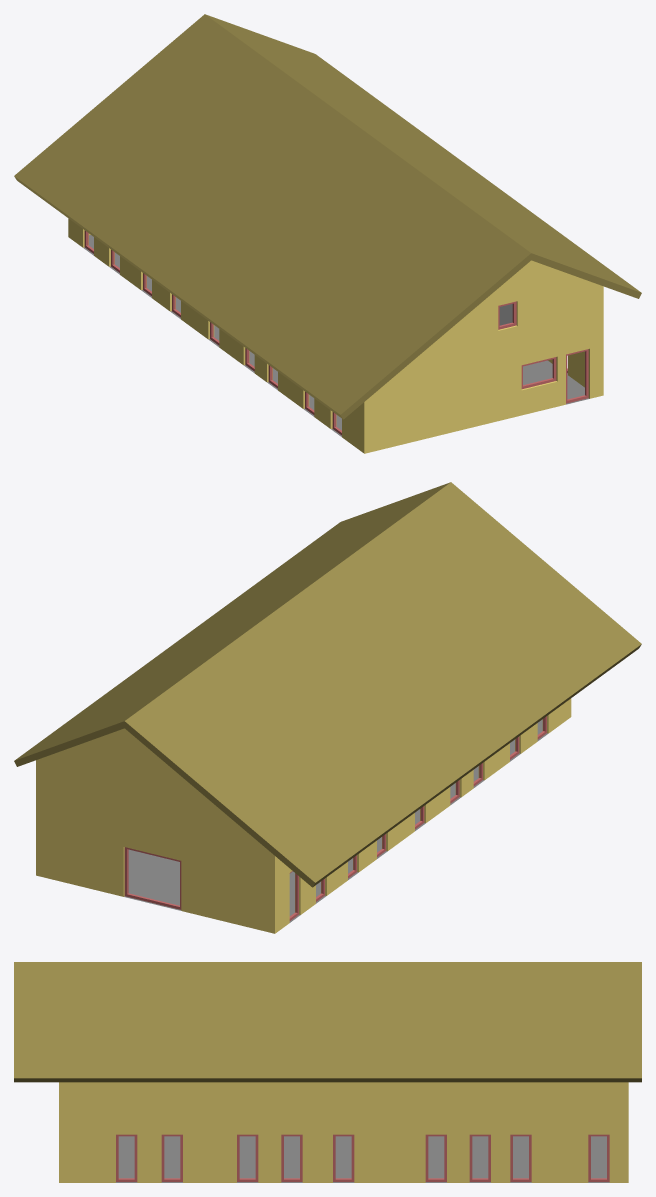
File: result.glb
3 views of the same model, one above another, from view 1: azimuth 30°, elevation 25°; view 2: azimuth 150°, elevation 25°; view 3: azimuth 270°, elevation 25° (orthographic). The views are drawn at different scales.
Parts seen in each view (by area): view 1: 087d2855-c0e6-4c23-a2b5-247921028dc7__undefined (×2), 6e06f0c3-1e23-4692-909f-3db23ffd5041__undefined, cd97a562-6293-4dc4-bdea-bdcfda681d2b__Plane_40; view 2: 087d2855-c0e6-4c23-a2b5-247921028dc7__undefined (×2), 6e06f0c3-1e23-4692-909f-3db23ffd5041__undefined, cd97a562-6293-4dc4-bdea-bdcfda681d2b__Plane_40, 24f96f42-4e2a-415a-992f-21163974043b__Box_9; view 3: 087d2855-c0e6-4c23-a2b5-247921028dc7__undefined, 6e06f0c3-1e23-4692-909f-3db23ffd5041__undefined, cd97a562-6293-4dc4-bdea-bdcfda681d2b__Plane_40, 6b524f5e-f489-45f1-9256-d252b61d2e4e__Box_66, 2b5b14c9-a76d-4bb0-92a2-522f8a9ff442__Box_69, 186065ec-5a67-4781-8c16-fae400372215__Box_72, 42db014e-2615-4056-be4f-232c39293022__Box_78, 5f7d8b55-5ece-4236-b92f-3c452a4b7040__Box_81, ba386b0a-9631-4503-9056-508e7c72ef08__Box_84, 78893185-6ddb-4c17-b5d4-102cb24abc06__Box_75, 0eec4313-0c77-4459-963c-fb25ed517e7d__Box_87, ea27ed9d-5844-4e9f-8cc6-671d0e9494dc__Box_90.
Part boxes in pixels (x1,y1,x2,y2): 087d2855-c0e6-4c23-a2b5-247921028dc7__undefined (×2): (14,14,641,419); 6e06f0c3-1e23-4692-909f-3db23ffd5041__undefined: (68,218,603,453); cd97a562-6293-4dc4-bdea-bdcfda681d2b__Plane_40: (83,235,589,436); 087d2855-c0e6-4c23-a2b5-247921028dc7__undefined (×2): (14,482,641,887); 6e06f0c3-1e23-4692-909f-3db23ffd5041__undefined: (36,698,571,933); cd97a562-6293-4dc4-bdea-bdcfda681d2b__Plane_40: (124,719,548,922); 24f96f42-4e2a-415a-992f-21163974043b__Box_9: (124,847,181,909); 087d2855-c0e6-4c23-a2b5-247921028dc7__undefined: (14,962,641,1082); 6e06f0c3-1e23-4692-909f-3db23ffd5041__undefined: (59,1082,628,1182); cd97a562-6293-4dc4-bdea-bdcfda681d2b__Plane_40: (116,1136,609,1182); 6b524f5e-f489-45f1-9256-d252b61d2e4e__Box_66: (116,1134,137,1181); 2b5b14c9-a76d-4bb0-92a2-522f8a9ff442__Box_69: (161,1134,182,1181); 186065ec-5a67-4781-8c16-fae400372215__Box_72: (237,1134,258,1181); 42db014e-2615-4056-be4f-232c39293022__Box_78: (333,1134,354,1181); 5f7d8b55-5ece-4236-b92f-3c452a4b7040__Box_81: (425,1134,446,1181); ba386b0a-9631-4503-9056-508e7c72ef08__Box_84: (469,1134,490,1181); 78893185-6ddb-4c17-b5d4-102cb24abc06__Box_75: (281,1134,302,1181); 0eec4313-0c77-4459-963c-fb25ed517e7d__Box_87: (510,1134,531,1181); ea27ed9d-5844-4e9f-8cc6-671d0e9494dc__Box_90: (588,1134,609,1181).
Bounding box in the file's own units: 1258 × 729 × 2360.
